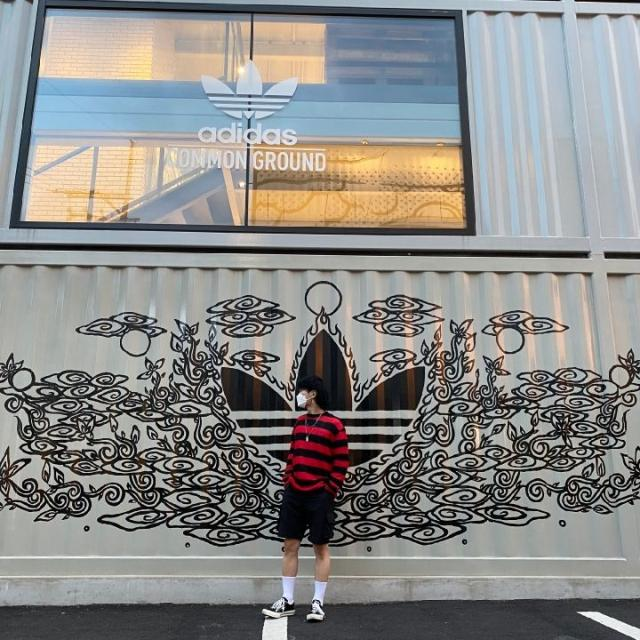longsleeve: (282, 413, 350, 497)
shortpants: (277, 484, 336, 544)
